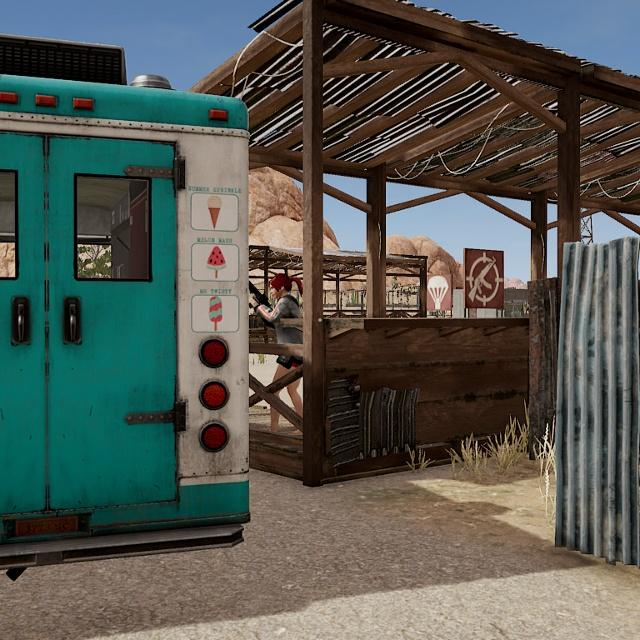head: (268, 271, 294, 301)
people: (257, 270, 306, 437)
